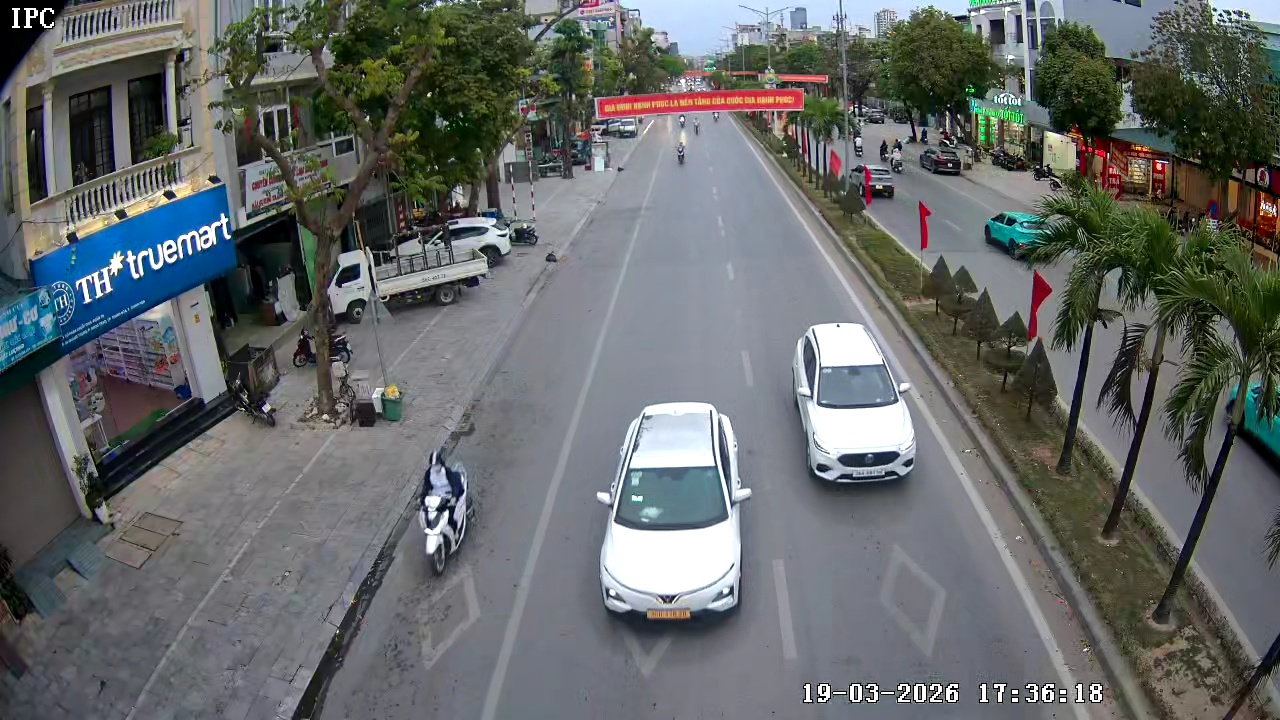car: (594, 398, 755, 623), (791, 322, 920, 484), (983, 208, 1081, 264)
motorbike: (416, 449, 474, 577), (674, 133, 689, 167)
